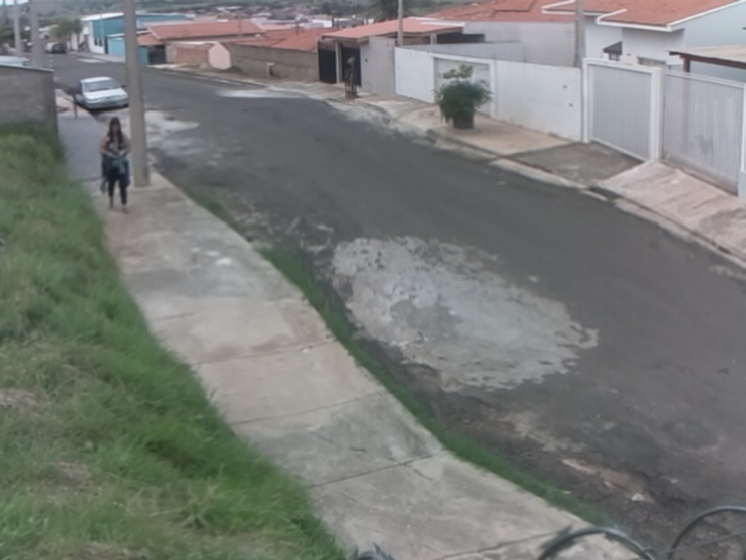person: (96, 113, 137, 220)
